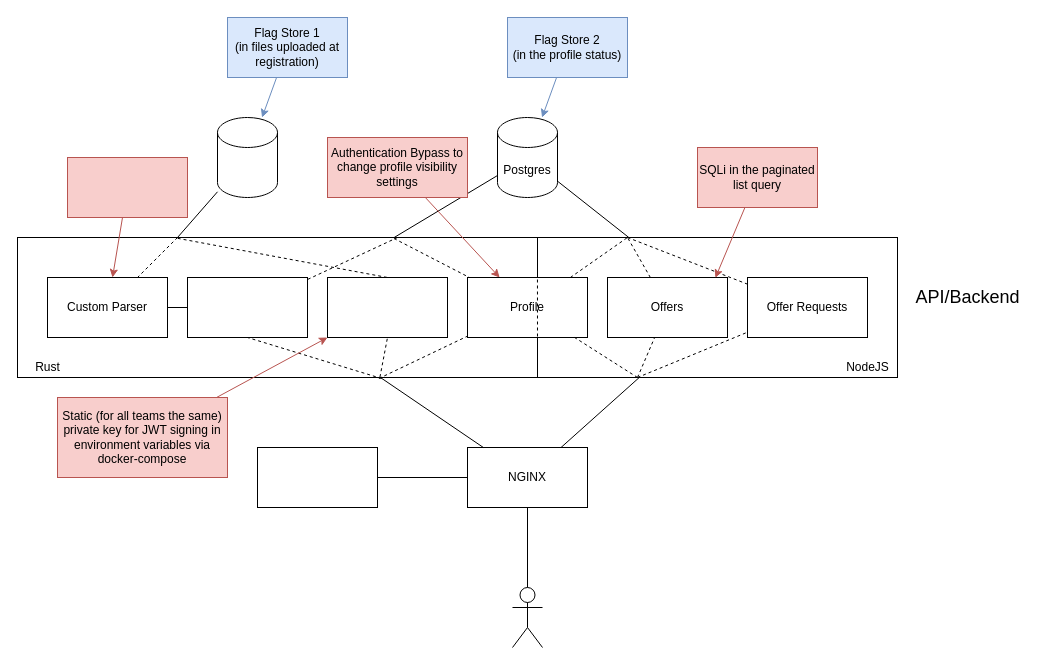
Some shapes in this 1045 by 665 pixel diagram are drawn without their labels. Each missing label, with the centre of its shape:
"Authentication" belongs at pixel 247 307.
"File System" belongs at pixel 247 157.
"LFI to read locally stored data from registration" belongs at pixel 127 187.
"Passports" belongs at pixel 387 307.
"Static Frontend Files Vue" belongs at pixel 317 477.
